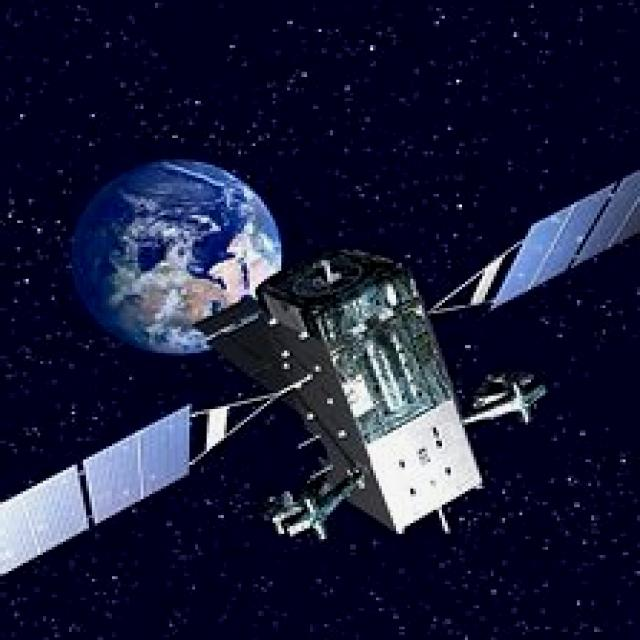satellite: (0, 157, 640, 596)
